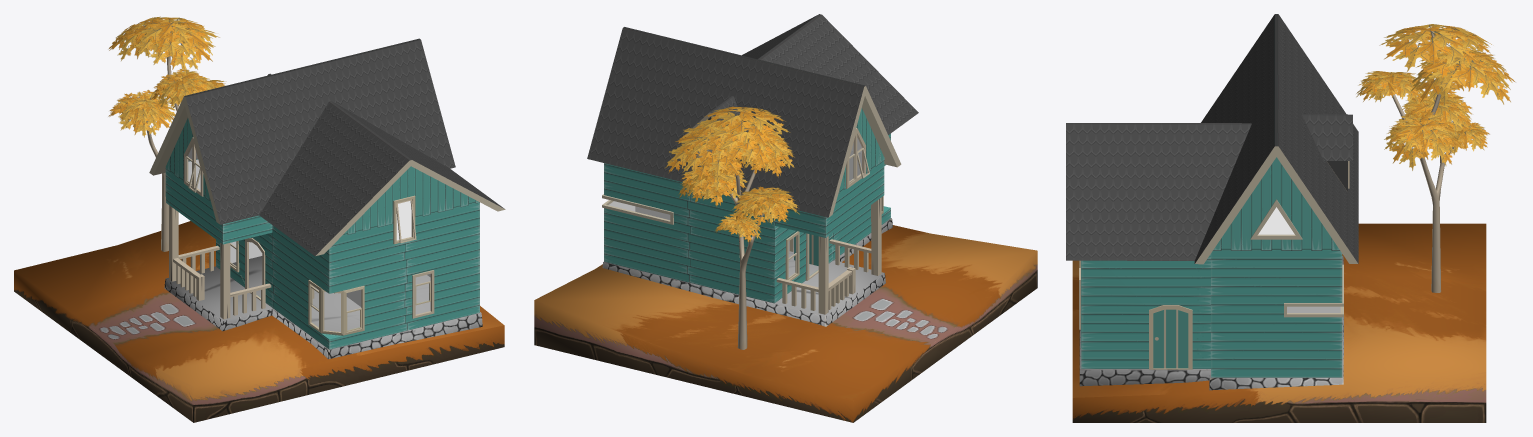
File: house5.glb
3 views of the same model, side by side, from view 1: azimuth 30°, elevation 25°; view 2: azimuth 150°, elevation 25°; view 3: azimuth 270°, elevation 25° (orthographic). The views are drawn at different scales.
Visible parts, largest first — view 1: Roof.2, Ground, Body, Floor, Roof 1, Leaves.001, Frame 2, Leaves.013, Leaves, Leaves.004, Tree, Leaves.007 (+4 smaller); view 2: Ground, Roof.2, Body, Floor, Roof 1, Leaves.001, Leaves, Leaves.003, Tree, Leaves.014, Leaves.002, Leaves.017 (+6 smaller); view 3: Roof.2, Ground, Body, Roof 1, Floor, Leaves.001, Door 2, Leaves.003, Tree, Leaves.015, Leaves.004, Leaves.016 (+13 smaller).
Part boxes in pixels (x1=…): Roof.2: x1=184, y1=38, x2=504, y2=255; Ground: x1=14, y1=221, x2=504, y2=422; Body: x1=165, y1=159, x2=479, y2=349; Floor: x1=164, y1=256, x2=482, y2=359; Roof 1: x1=149, y1=96, x2=505, y2=255; Leaves.001: x1=120, y1=17, x2=219, y2=57; Frame 2: x1=308, y1=280, x2=364, y2=335; Leaves.013: x1=110, y1=90, x2=175, y2=137; Leaves: x1=108, y1=16, x2=185, y2=60; Leaves.004: x1=144, y1=23, x2=215, y2=70; Tree: x1=146, y1=31, x2=179, y2=251; Leaves.007: x1=154, y1=69, x2=215, y2=107; Ground: x1=534, y1=225, x2=1037, y2=422; Roof.2: x1=587, y1=14, x2=918, y2=217; Body: x1=604, y1=133, x2=890, y2=314; Floor: x1=602, y1=218, x2=892, y2=326; Roof 1: x1=828, y1=86, x2=901, y2=217; Leaves.001: x1=691, y1=106, x2=790, y2=147; Leaves: x1=704, y1=114, x2=786, y2=168; Leaves.003: x1=664, y1=123, x2=752, y2=181; Tree: x1=727, y1=116, x2=763, y2=349; Leaves.014: x1=732, y1=186, x2=798, y2=226; Leaves.002: x1=674, y1=133, x2=749, y2=162; Leaves.017: x1=681, y1=161, x2=747, y2=206; Roof.2: x1=1066, y1=14, x2=1358, y2=263; Ground: x1=1072, y1=223, x2=1486, y2=422; Body: x1=1081, y1=251, x2=1342, y2=377; Roof 1: x1=1195, y1=146, x2=1357, y2=264; Floor: x1=1079, y1=256, x2=1343, y2=390; Leaves.001: x1=1379, y1=24, x2=1482, y2=71; Door 2: x1=1153, y1=309, x2=1188, y2=368; Leaves.003: x1=1419, y1=46, x2=1515, y2=104; Tree: x1=1392, y1=31, x2=1453, y2=292; Leaves.015: x1=1384, y1=110, x2=1455, y2=170; Leaves.004: x1=1410, y1=49, x2=1499, y2=105; Leaves.016: x1=1393, y1=114, x2=1461, y2=165.
Size of the model in its own units: 873 by 672 by 944.
Materials: 5 (4 with a texture image).
